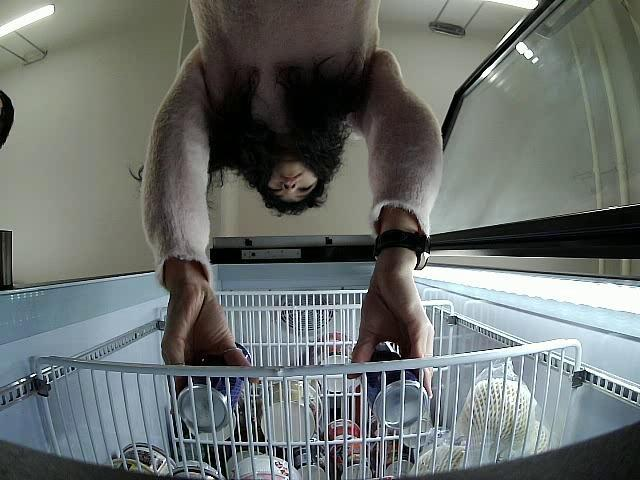16_hot6: (178, 342, 252, 431), (364, 342, 430, 430)
